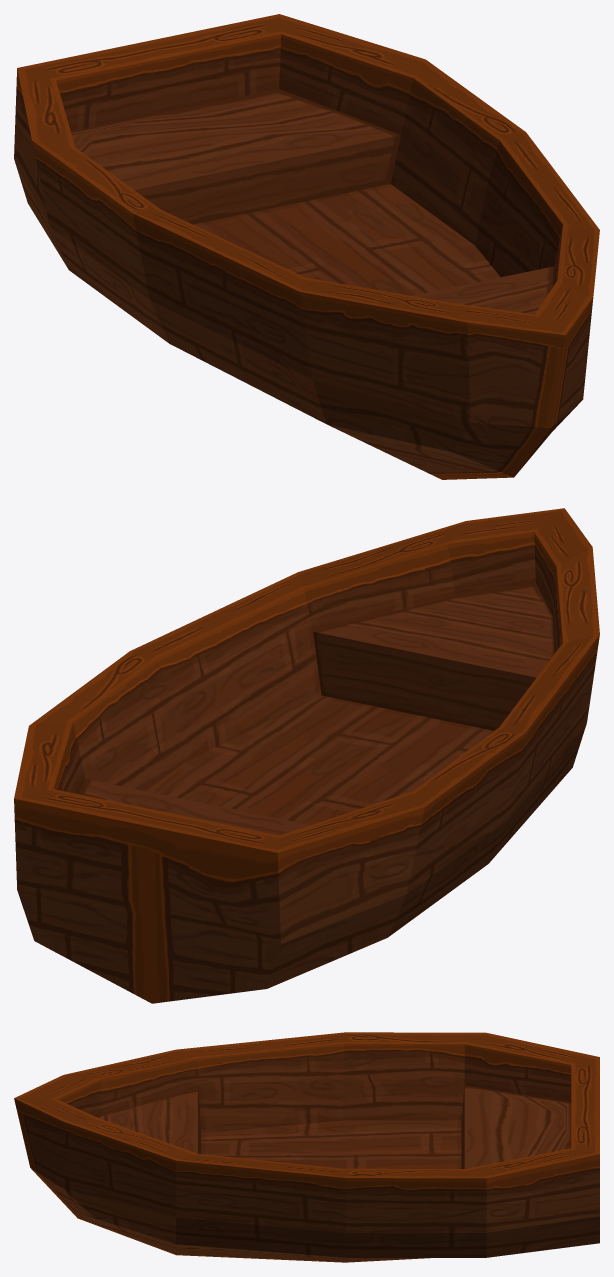
File: boat_lowpoly-ynsLUR1C.glb
3 renders of one model, top to bottom at view 1: azimuth 30°, elevation 25°; view 2: azimuth 150°, elevation 25°; view 3: azimuth 270°, elevation 25°, orthographic. The views are drawn at different scales.
Visible parts, largest first — view 1: Cube; view 2: Cube; view 3: Cube.
Boxes of the visible parts, bbox=[...] form: Cube: bbox=[14, 14, 599, 479]; Cube: bbox=[14, 508, 599, 1003]; Cube: bbox=[14, 1032, 599, 1262].
Size of the model in its own units: 231 by 135 by 424.
Materials: 1 (1 with a texture image).
